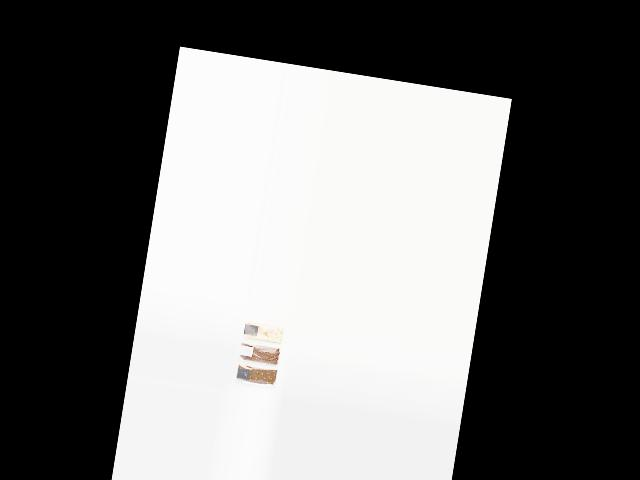chocolate: (235, 362, 281, 393)
